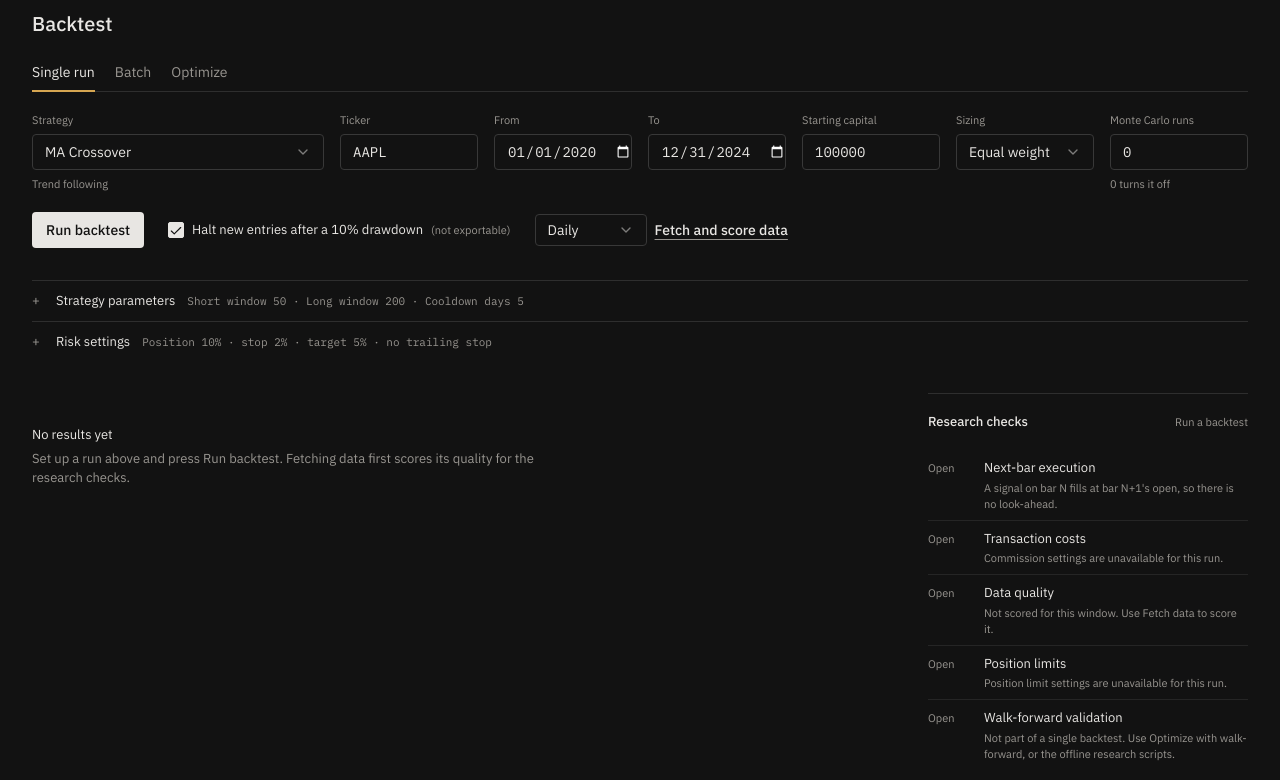
Test: keeps the completed run's research evidence when revisiting the page
This screenshot has width=1280, height=780.
Later steps or results of the test are not shown.
Click the text "Risk settings". click: (93, 341)
box: [56, 332, 130, 351]
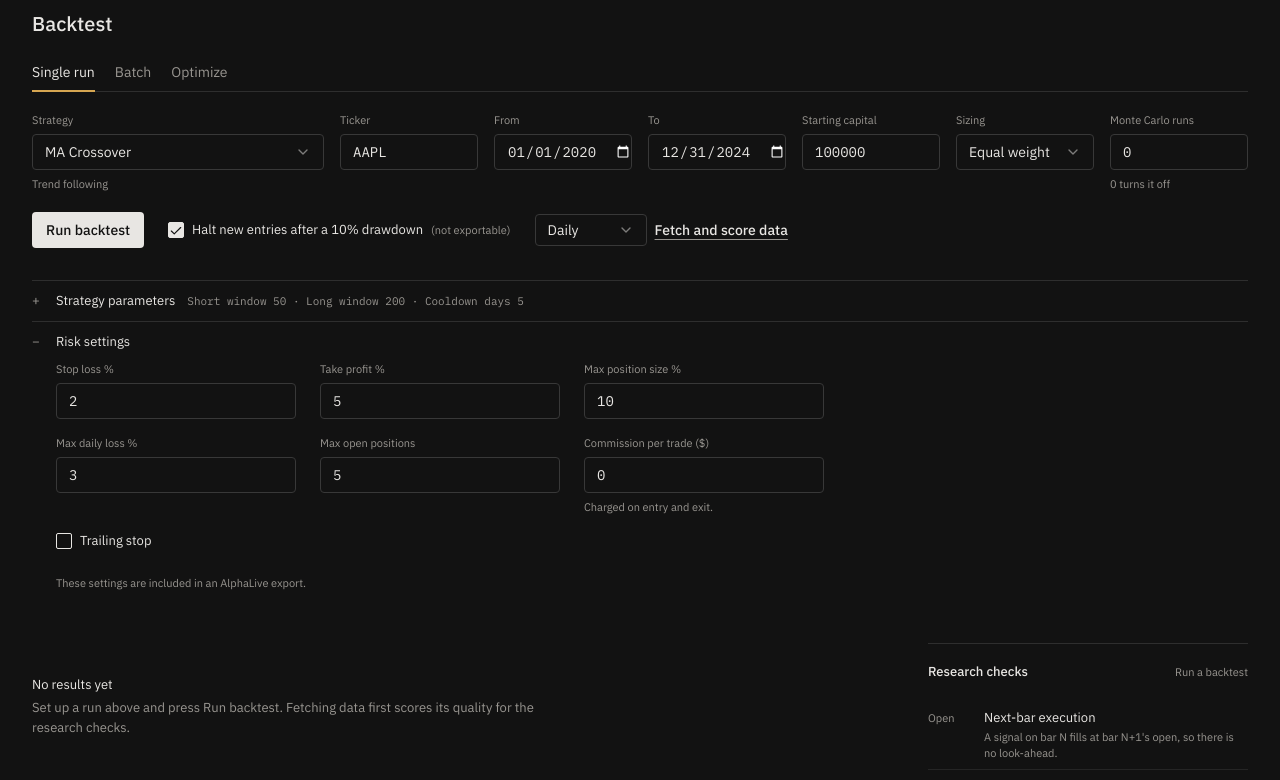
Replace the text in the number field labelled "Commission per trade ($)" with "7". click: (704, 475)
box: [584, 457, 824, 493]
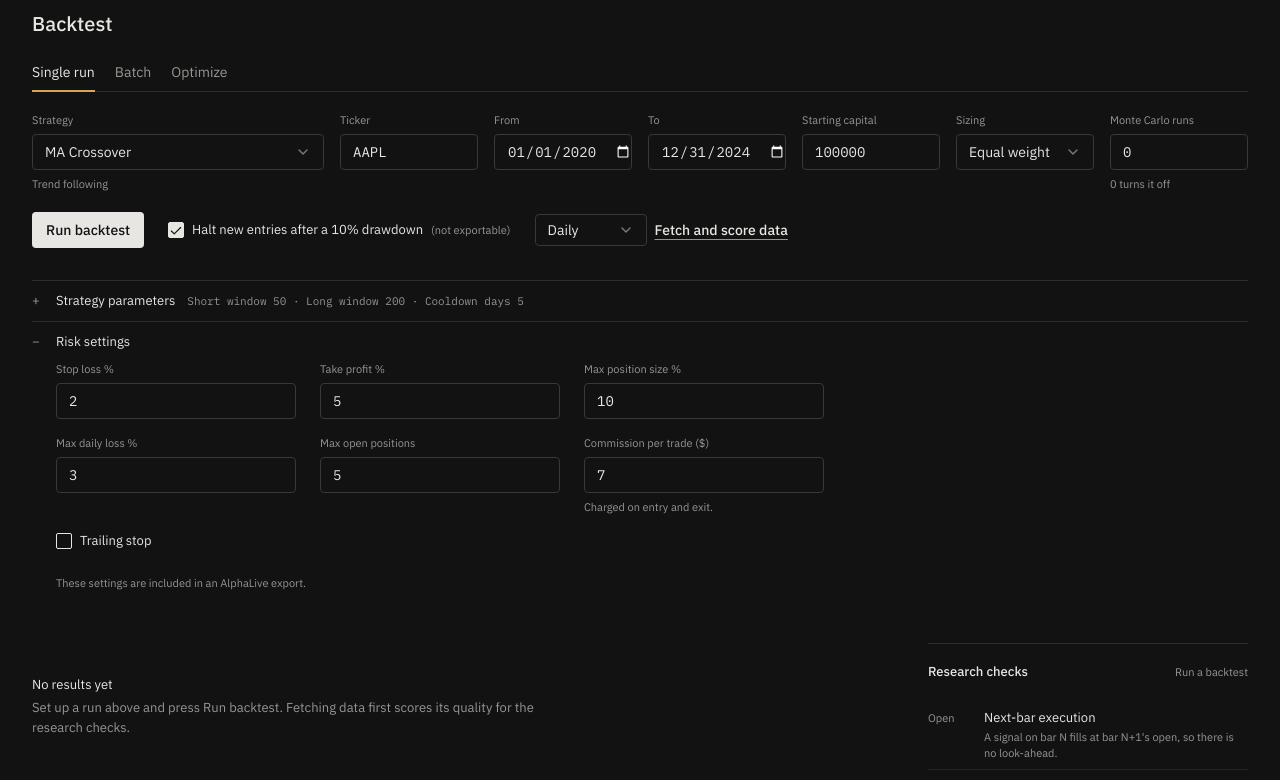
Click the button "Fetch and score data". click: (721, 230)
box: [655, 220, 788, 240]
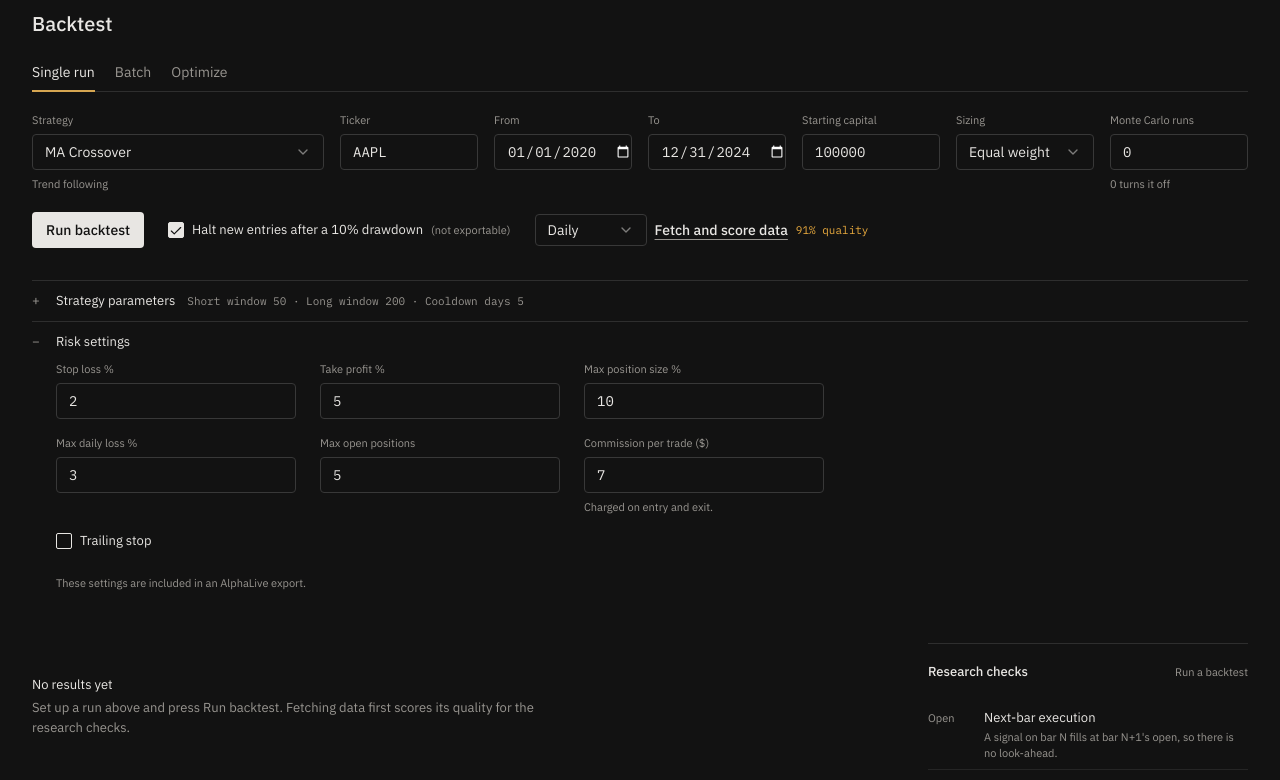
Expected: the text "91% quality" is shown, [796, 222, 868, 238]
Click the button "Run backtest". click: (88, 230)
box: [32, 212, 144, 248]
(page scrolled)
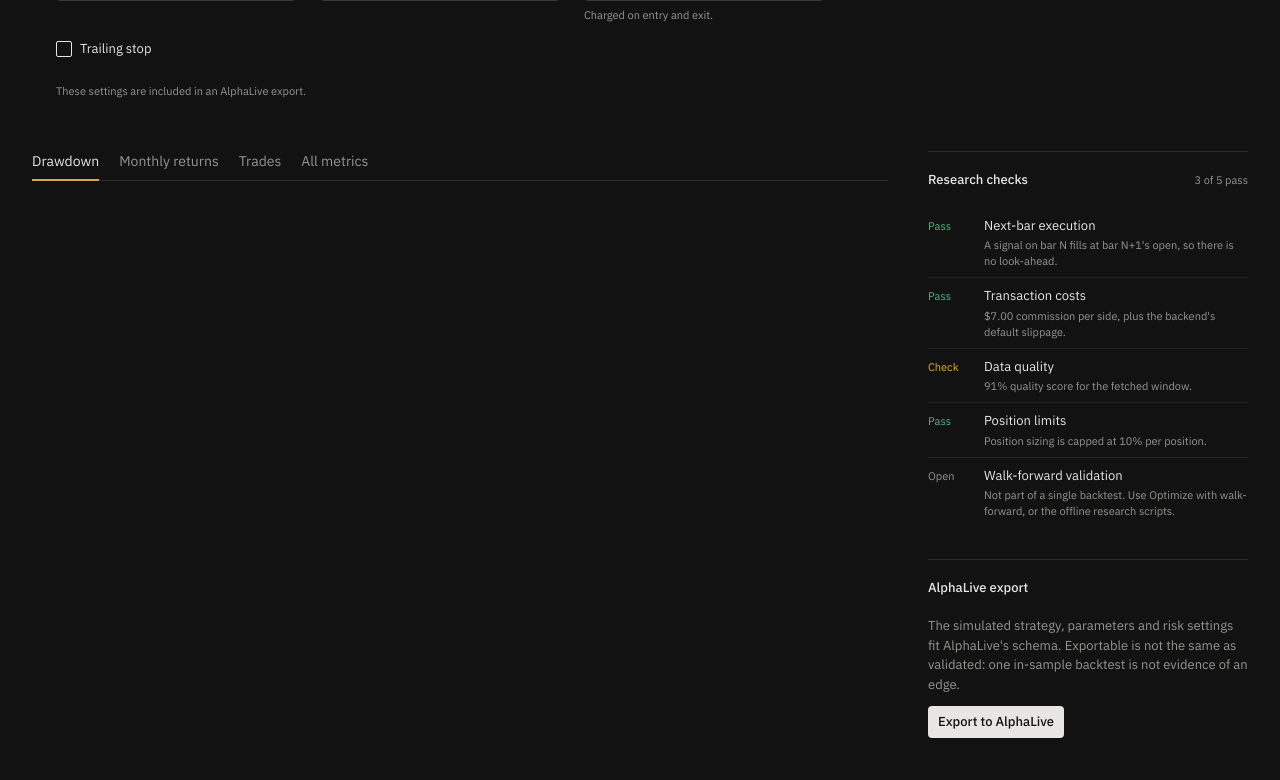
Expected: the text "91% quality score for the fetched window." is shown, [984, 378, 1192, 394]
